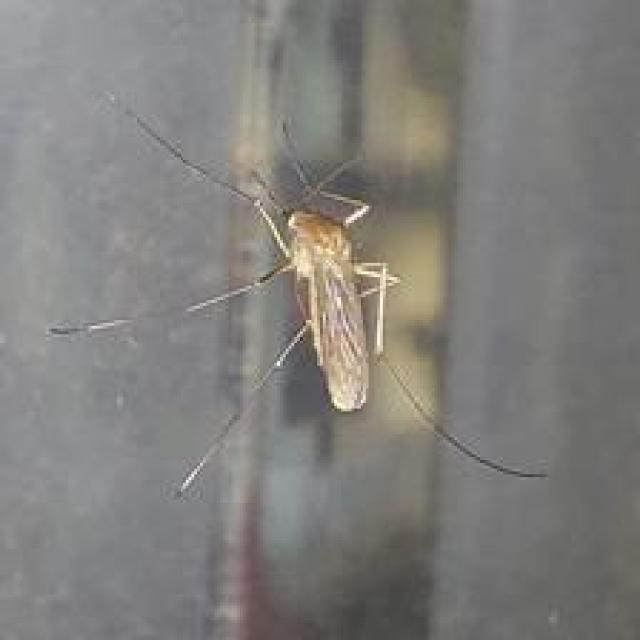Culex: (49, 100, 548, 500)
